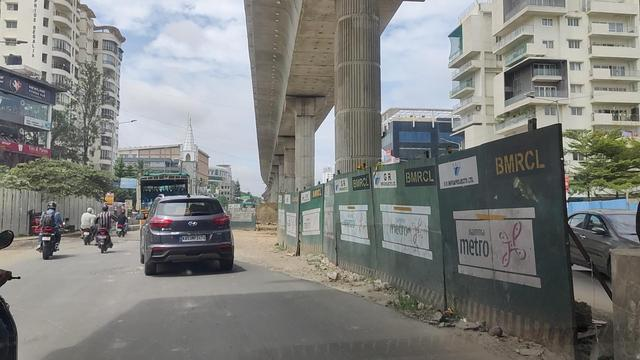LMV: (135, 197, 235, 274), (39, 202, 60, 260), (96, 204, 111, 253)
RoadDamages: (267, 255, 305, 289), (93, 267, 141, 278)
